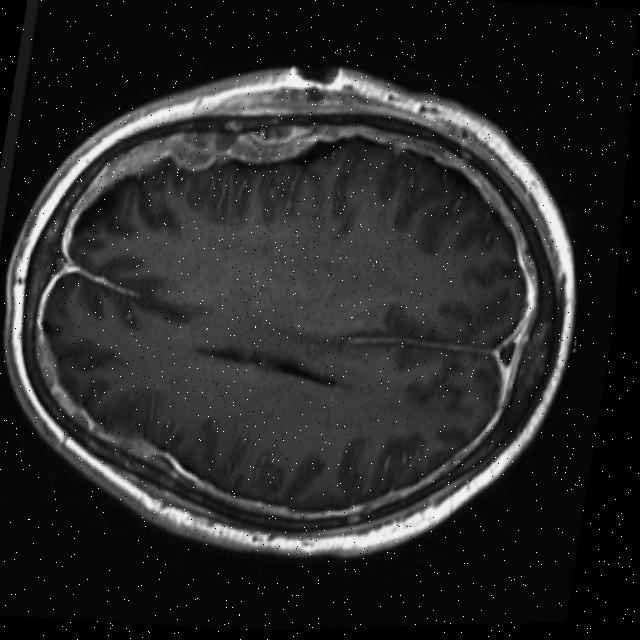NoTumor: (0, 34, 614, 586)
